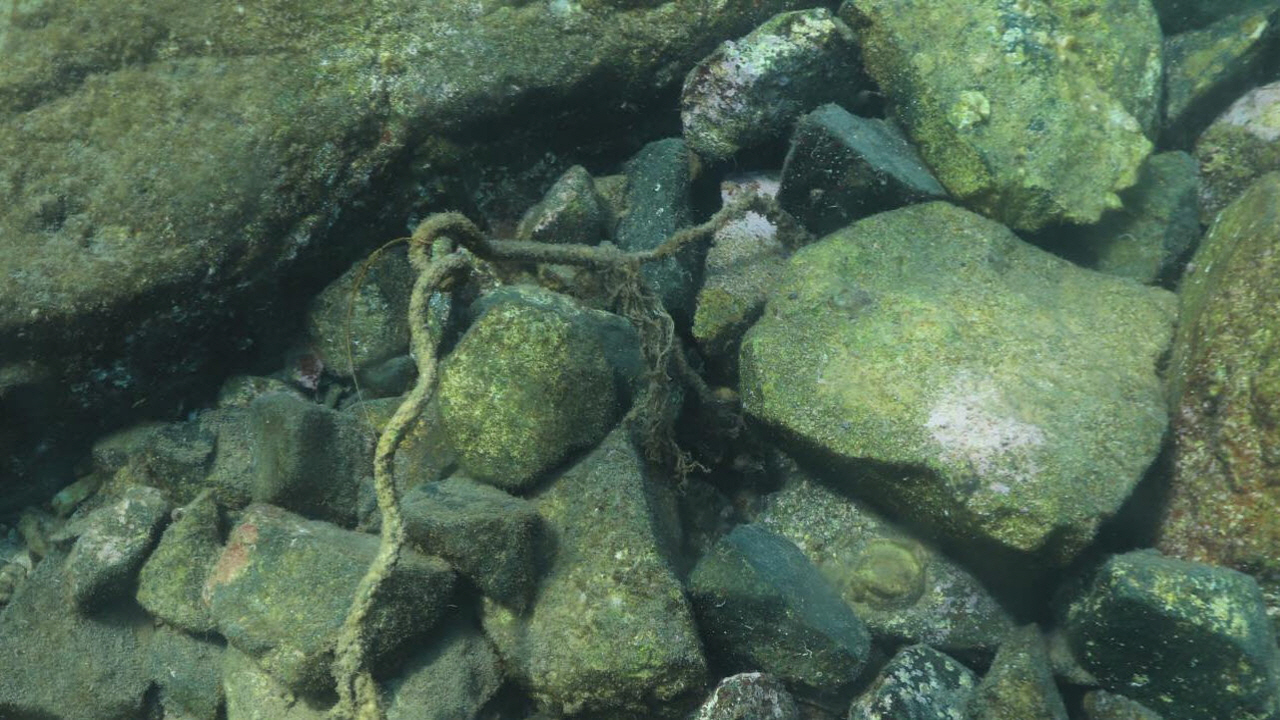rope: (328, 173, 759, 720)
